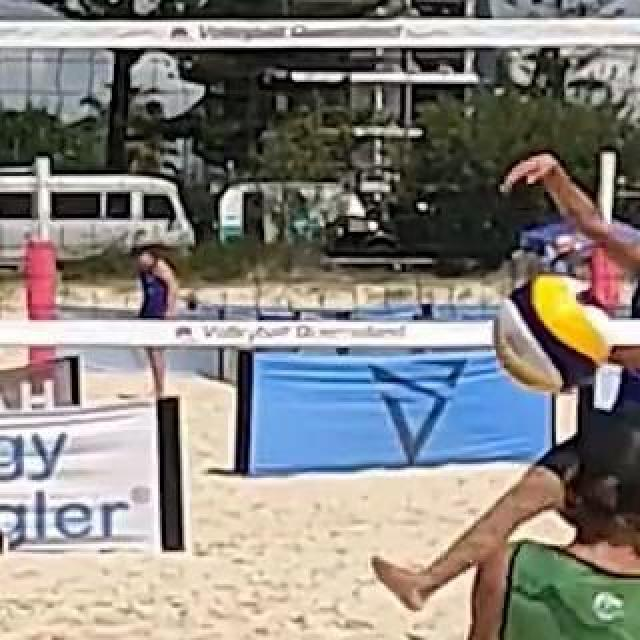volleyball: (493, 273, 613, 391)
